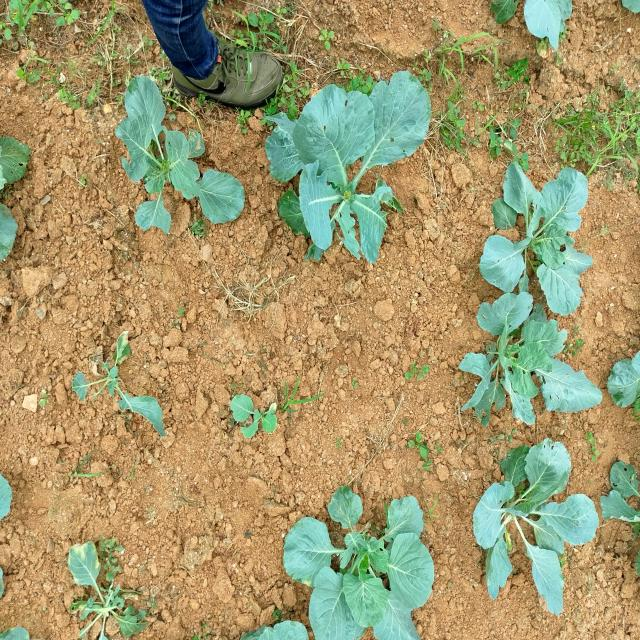Cabbage: (261, 64, 427, 267), (281, 480, 445, 638), (473, 428, 605, 624), (449, 275, 592, 428), (478, 154, 602, 319), (120, 114, 252, 245), (69, 340, 190, 438), (62, 532, 146, 638), (480, 0, 592, 50), (213, 385, 300, 444), (604, 333, 640, 422)
